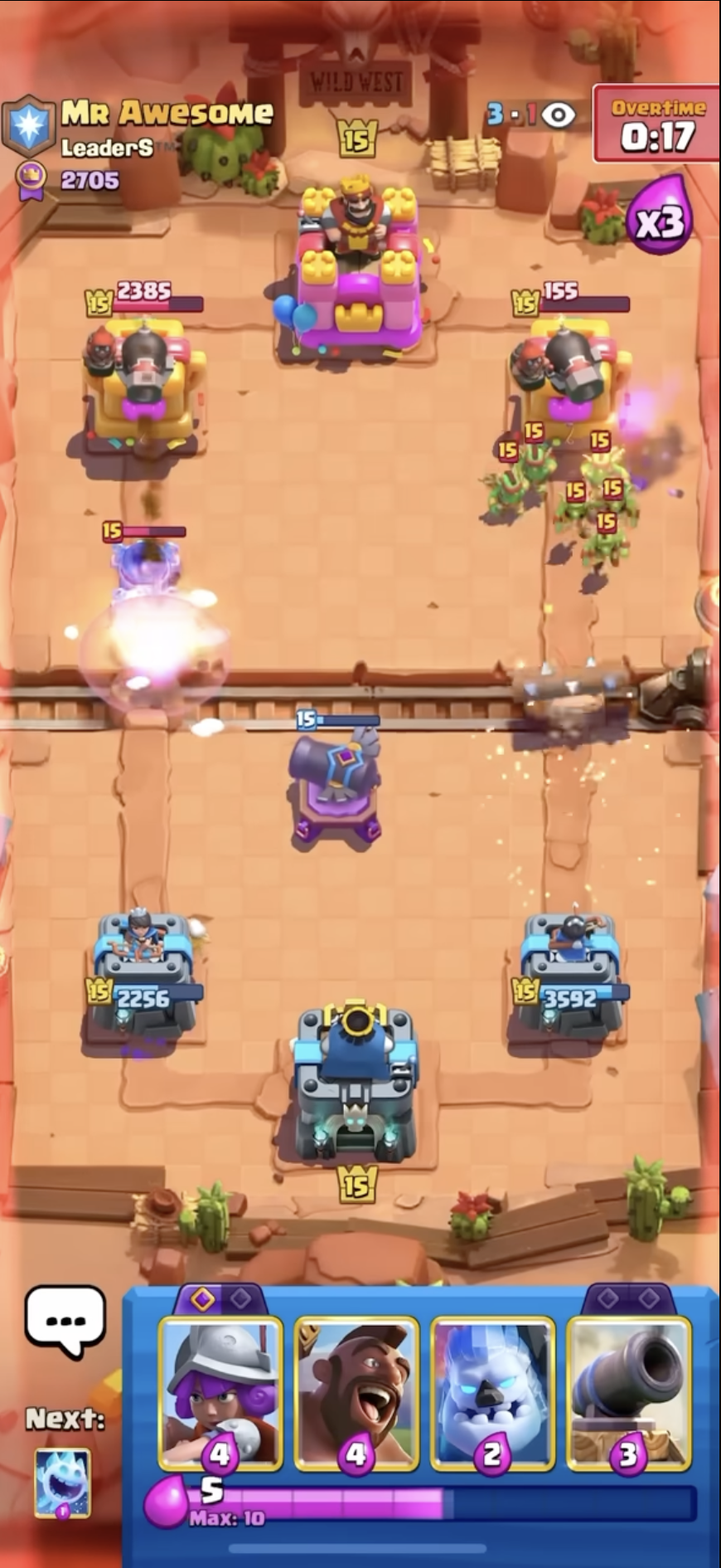evo_cannon: (273, 694, 396, 858)
log: (492, 633, 664, 745)
